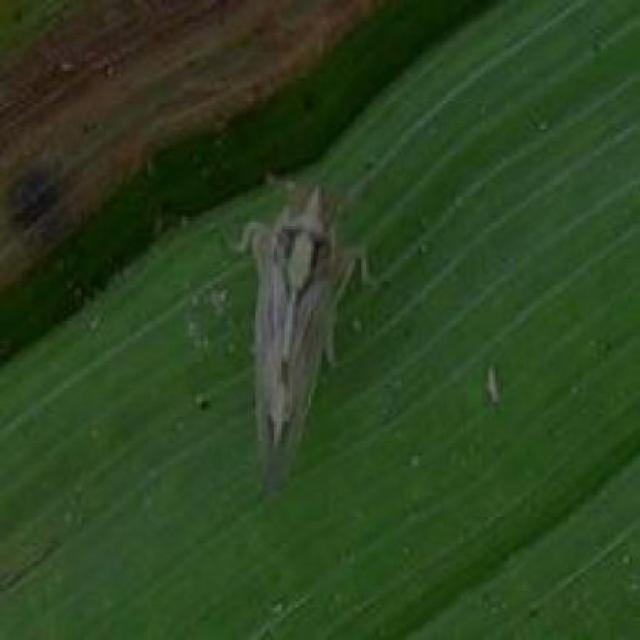brown-planthopper: (245, 182, 340, 486)
